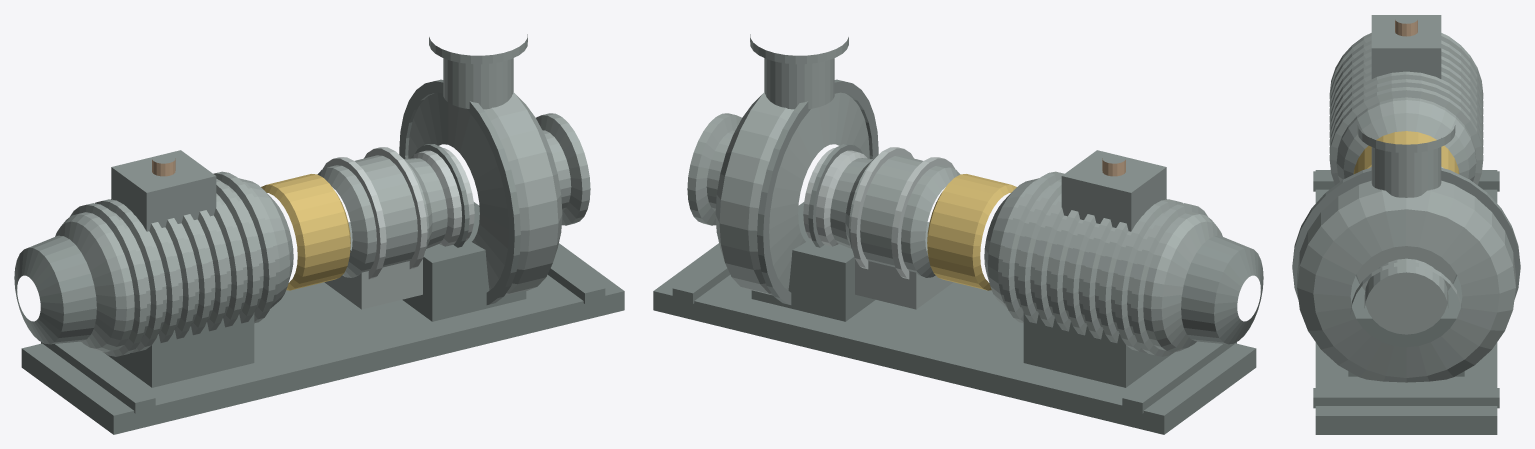
3 renders of one model, left to right at view 1: azimuth 30°, elevation 25°; view 2: azimuth 150°, elevation 25°; view 3: azimuth 270°, elevation 25°, orthographic.
Parts seen in each view (by area): view 1: part-0, part-5, part-16, part-10, part-6, part-9, part-7, part-3, part-4, part-19, part-17, part-18 (+7 smaller); view 2: part-0, part-5, part-16, part-10, part-6, part-9, part-7, part-3, part-4, part-19, part-17, part-18 (+7 smaller); view 3: part-16, part-5, part-0, part-18, part-7, part-19, part-2, part-17, part-4, part-9, part-1, part-8.
Boxes of the visible parts, x1=… form: part-0: x1=21, y1=243, x2=624, y2=434; part-5: x1=55, y1=171, x2=293, y2=356; part-16: x1=408, y1=92, x2=562, y2=295; part-10: x1=317, y1=155, x2=447, y2=277; part-6: x1=14, y1=235, x2=96, y2=344; part-9: x1=261, y1=174, x2=350, y2=290; part-7: x1=111, y1=150, x2=216, y2=231; part-3: x1=106, y1=312, x2=254, y2=387; part-4: x1=402, y1=202, x2=526, y2=321; part-19: x1=429, y1=34, x2=527, y2=109; part-17: x1=399, y1=79, x2=520, y2=304; part-18: x1=536, y1=113, x2=590, y2=225; part-0: x1=653, y1=243, x2=1256, y2=434; part-5: x1=984, y1=171, x2=1222, y2=356; part-16: x1=715, y1=92, x2=869, y2=295; part-10: x1=830, y1=155, x2=960, y2=277; part-6: x1=1181, y1=235, x2=1263, y2=344; part-9: x1=927, y1=174, x2=1016, y2=290; part-7: x1=1061, y1=150, x2=1166, y2=231; part-3: x1=1023, y1=312, x2=1171, y2=387; part-4: x1=751, y1=202, x2=875, y2=321; part-19: x1=750, y1=34, x2=848, y2=109; part-17: x1=757, y1=79, x2=878, y2=304; part-18: x1=687, y1=113, x2=741, y2=225; part-16: x1=1297, y1=180, x2=1515, y2=382; part-5: x1=1329, y1=33, x2=1483, y2=185; part-0: x1=1315, y1=170, x2=1497, y2=434; part-18: x1=1350, y1=258, x2=1462, y2=334; part-7: x1=1371, y1=15, x2=1441, y2=78; part-19: x1=1357, y1=125, x2=1455, y2=197; part-2: x1=1313, y1=388, x2=1499, y2=408; part-17: x1=1292, y1=167, x2=1520, y2=299; part-4: x1=1348, y1=276, x2=1464, y2=376; part-9: x1=1353, y1=131, x2=1459, y2=173; part-1: x1=1313, y1=171, x2=1499, y2=191; part-8: x1=1395, y1=20, x2=1417, y2=36.
Bounding box in the file's own units: 2.69 × 1.24 × 0.98.
